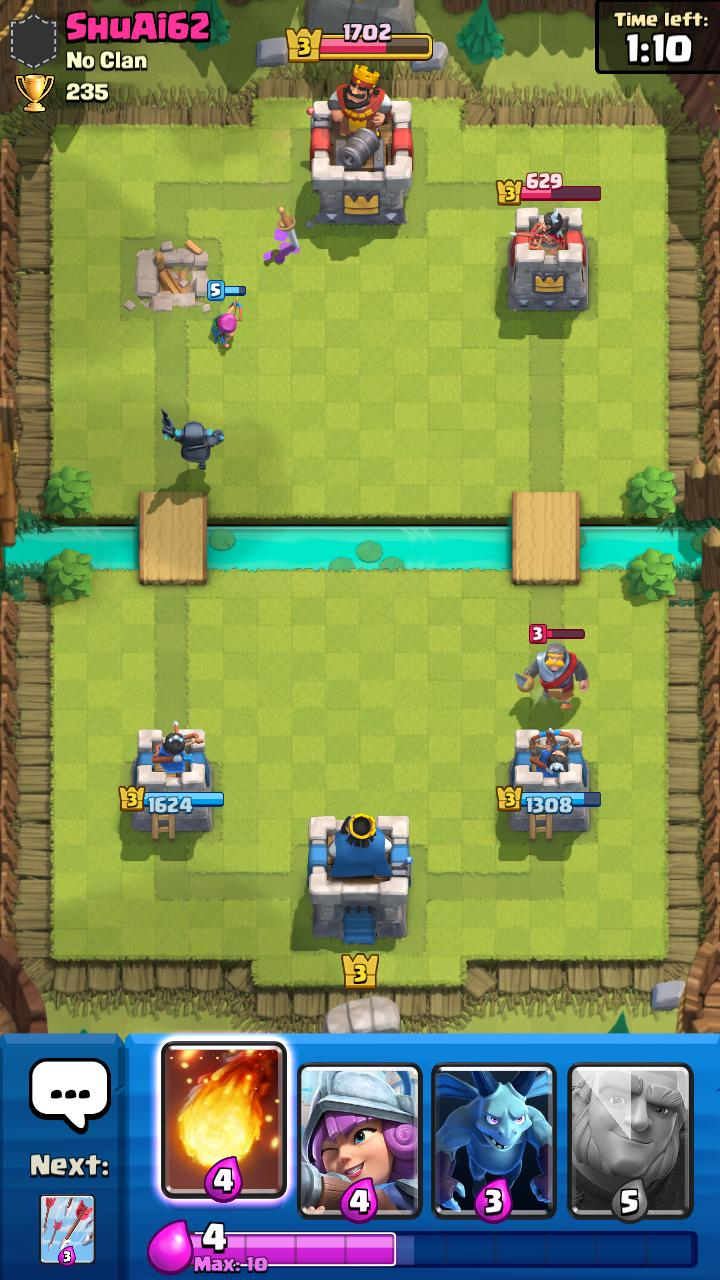ally: (161, 408, 224, 470), (207, 280, 246, 348)
enemy: (515, 624, 590, 709)
